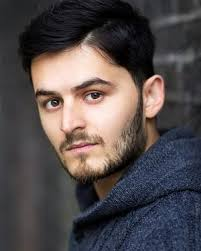middle_eastern_male: (40, 54, 145, 177)
